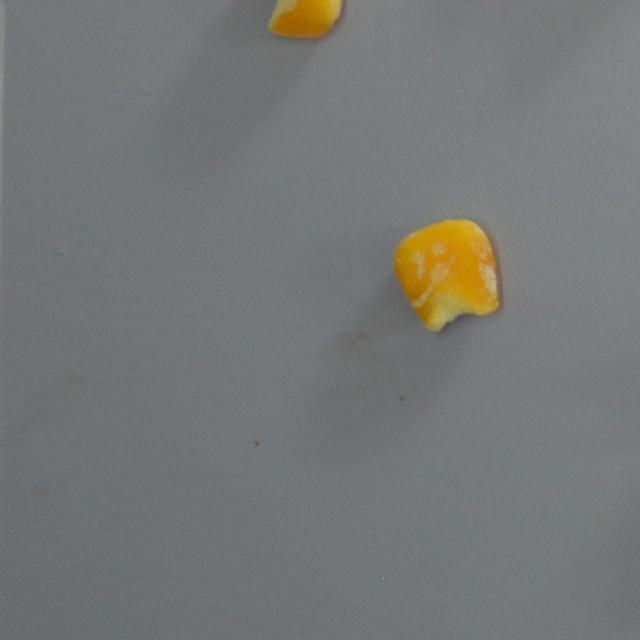no_canjicado: (246, 0, 349, 38)
pelicula: (390, 218, 502, 331)
